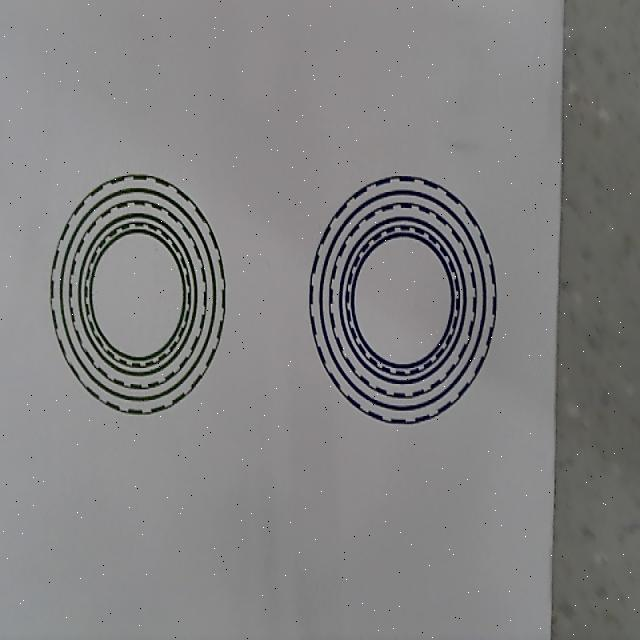b: (308, 174, 498, 424)
g: (49, 174, 225, 416)
